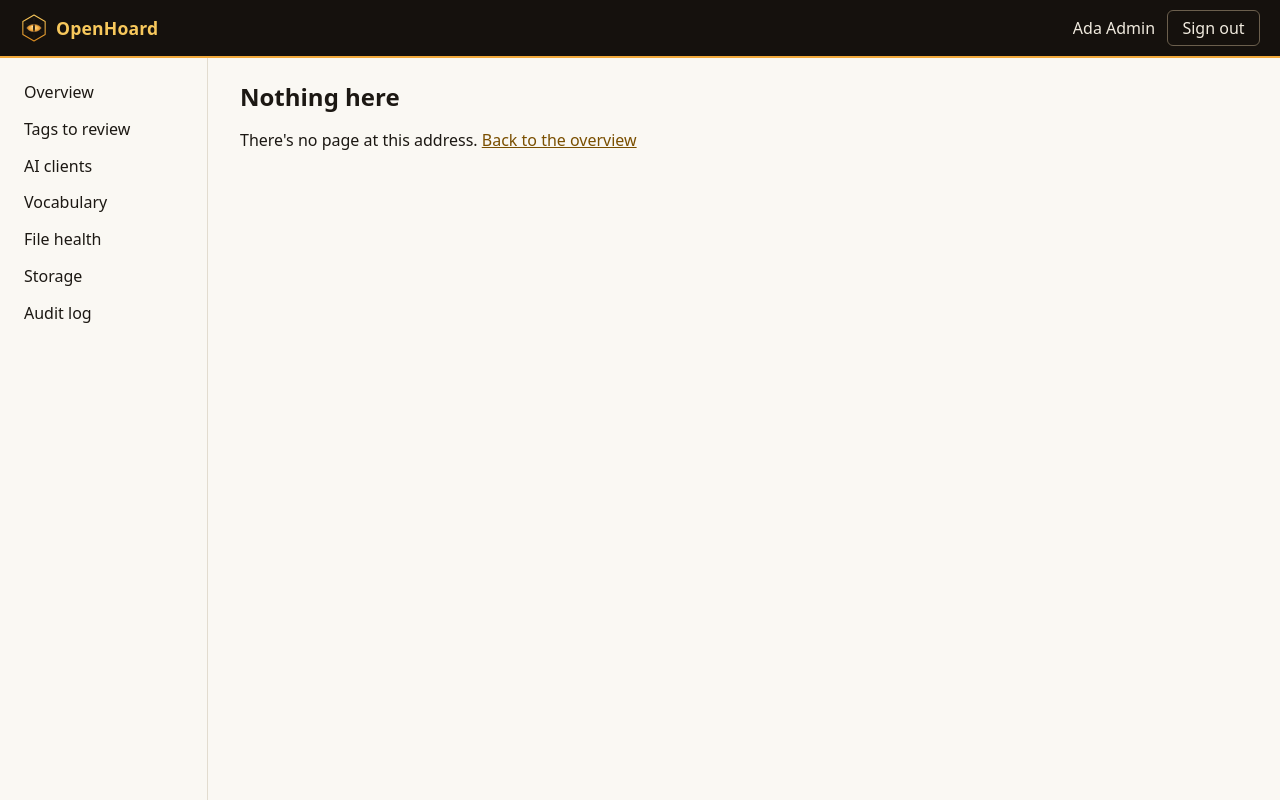
Test: the admin shell (T-901) › has pages at paths: links move without loading, back works, unknown paths say so
expect the heading "Nothing here" is shown: met, box [240,80,400,113]
Click the link "Back to the overview": (559, 140) [482,129,637,151]
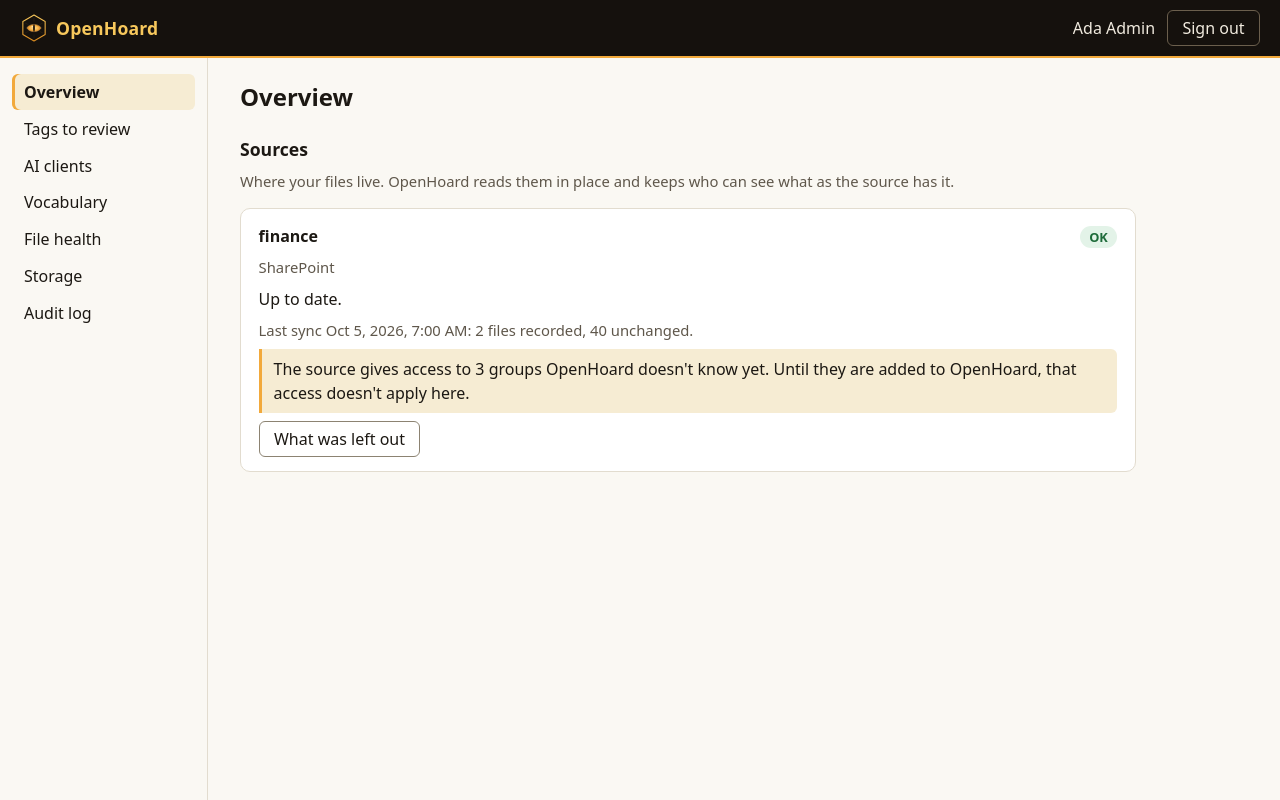
expect the heading "Overview" is shown: met, box [240,80,353,113]
Click the link "Overview": (104, 92) [12,74,195,110]
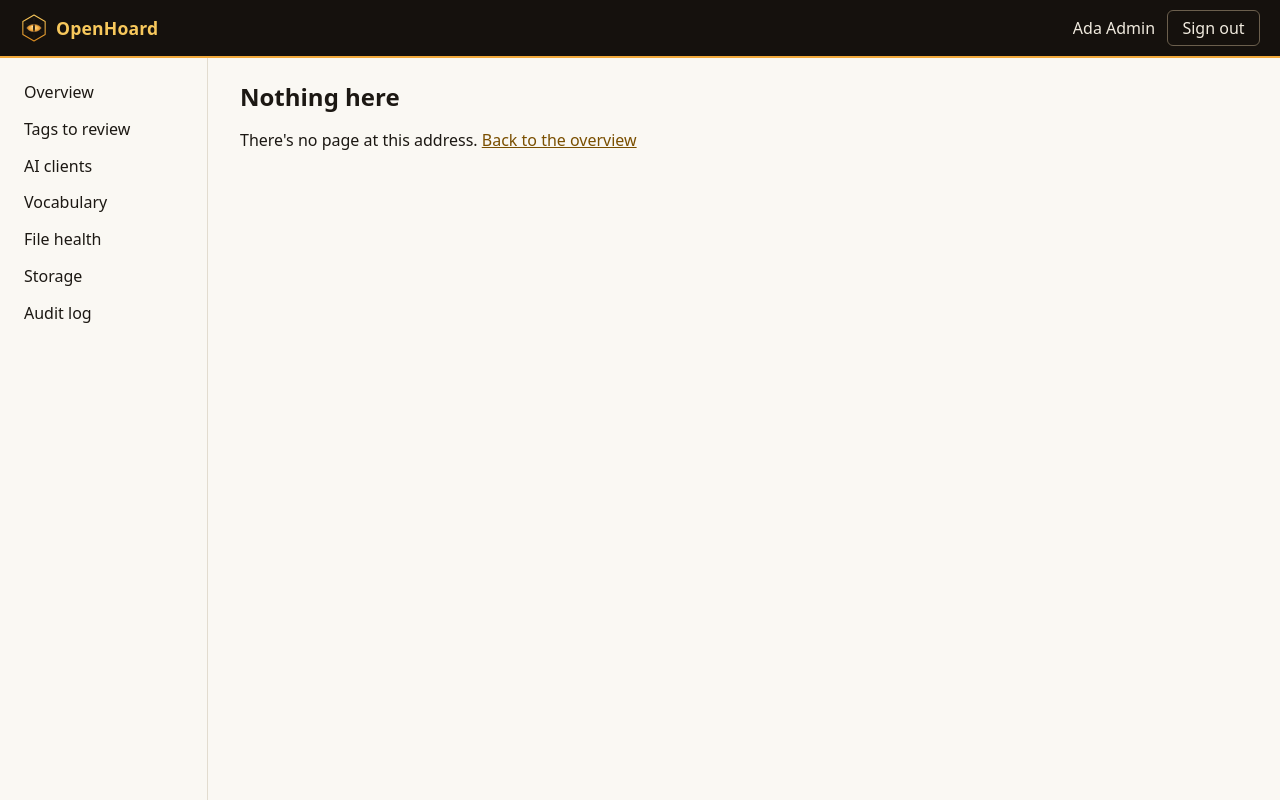
expect the heading "Nothing here" is shown: met, box [240,80,400,113]
